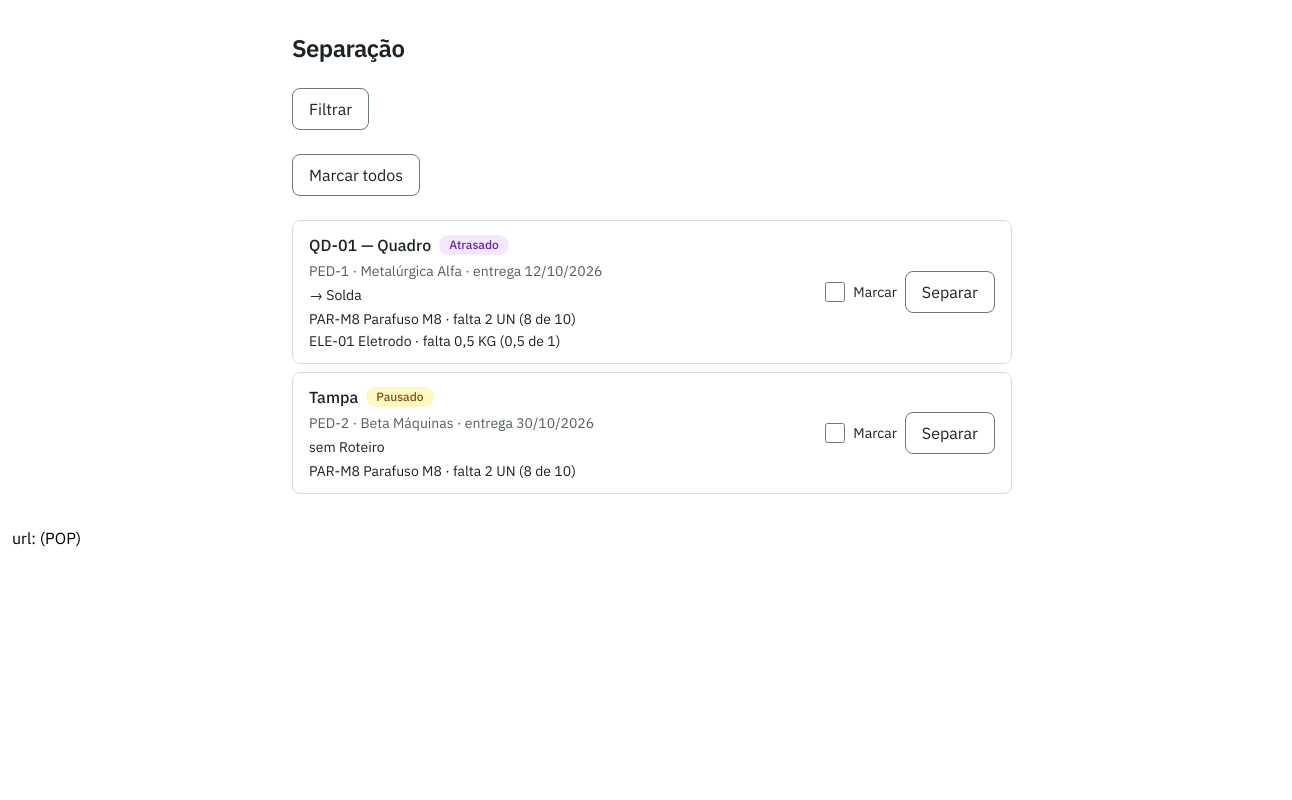
Test: SeparacaoPage › separar em lote › cartão que sai da lista na recarga sai da seleção, com aviso, sem reescrever o digitado nos outros
The width and height of the screenshot is (1292, 800).
Click the checkbox named "Marcar QD-01 — Quadro (PED-1)" at (835, 292), box x1=825 y1=282 x2=845 y2=302
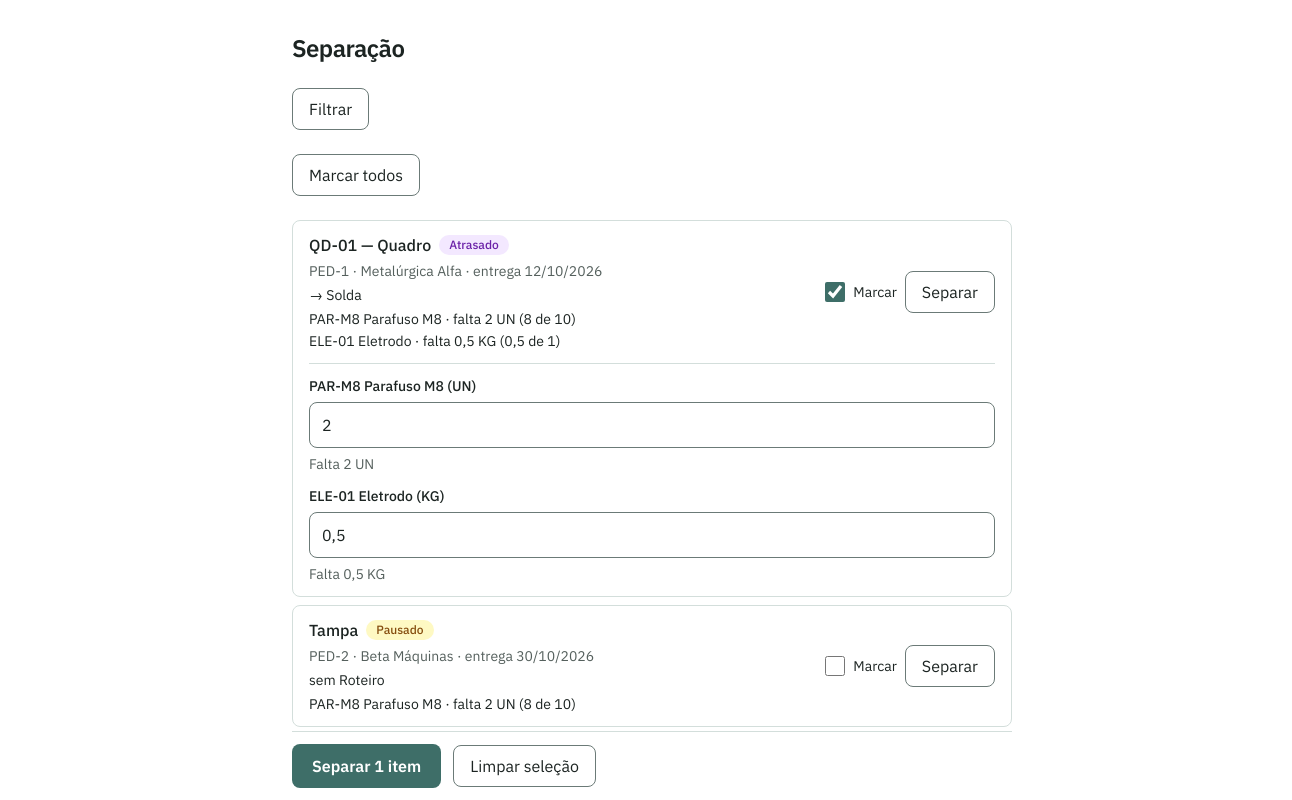
Click the checkbox named "Marcar Tampa (PED-2)" at (835, 666), box x1=825 y1=656 x2=845 y2=676
(page scrolled)
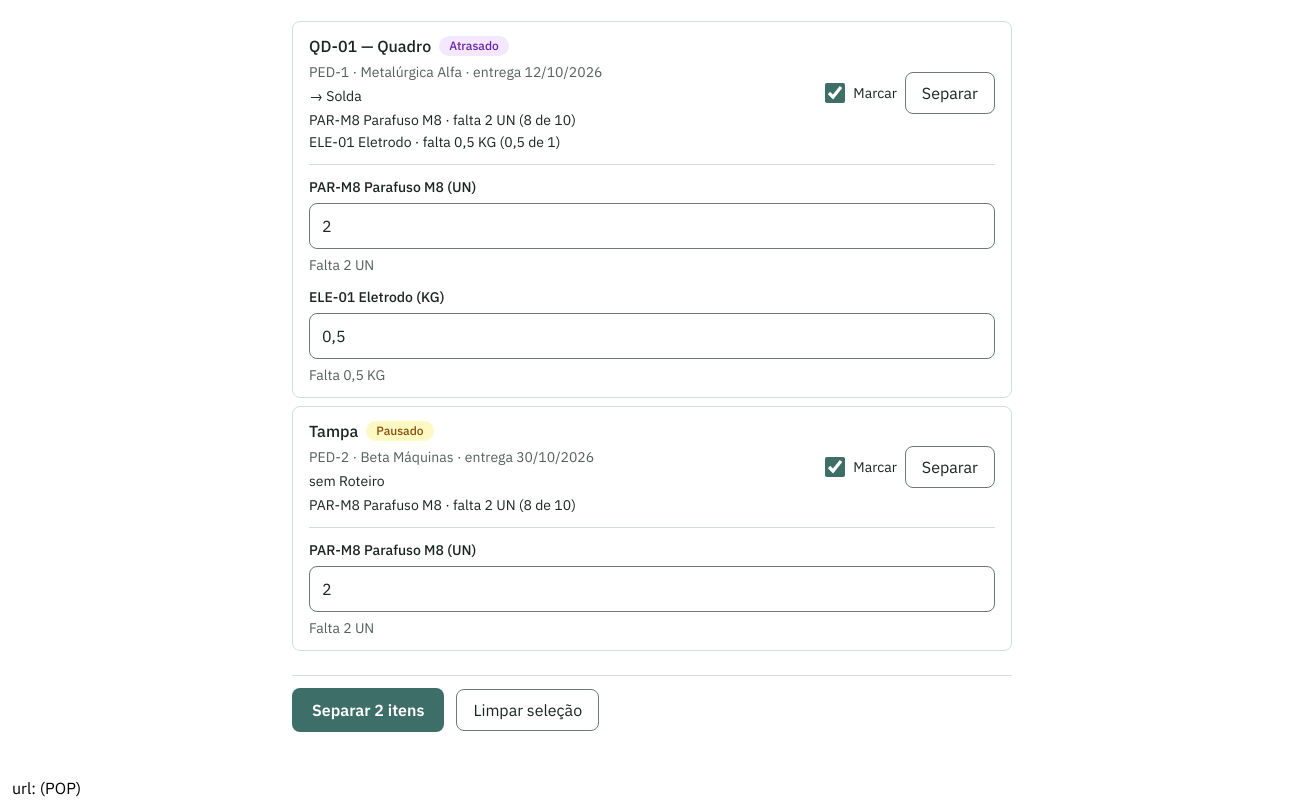
Replace the text in the field labelled "PAR-M8 Parafuso M8 (UN)" below "Tampa" with "1" at (652, 589), box x1=309 y1=566 x2=995 y2=612
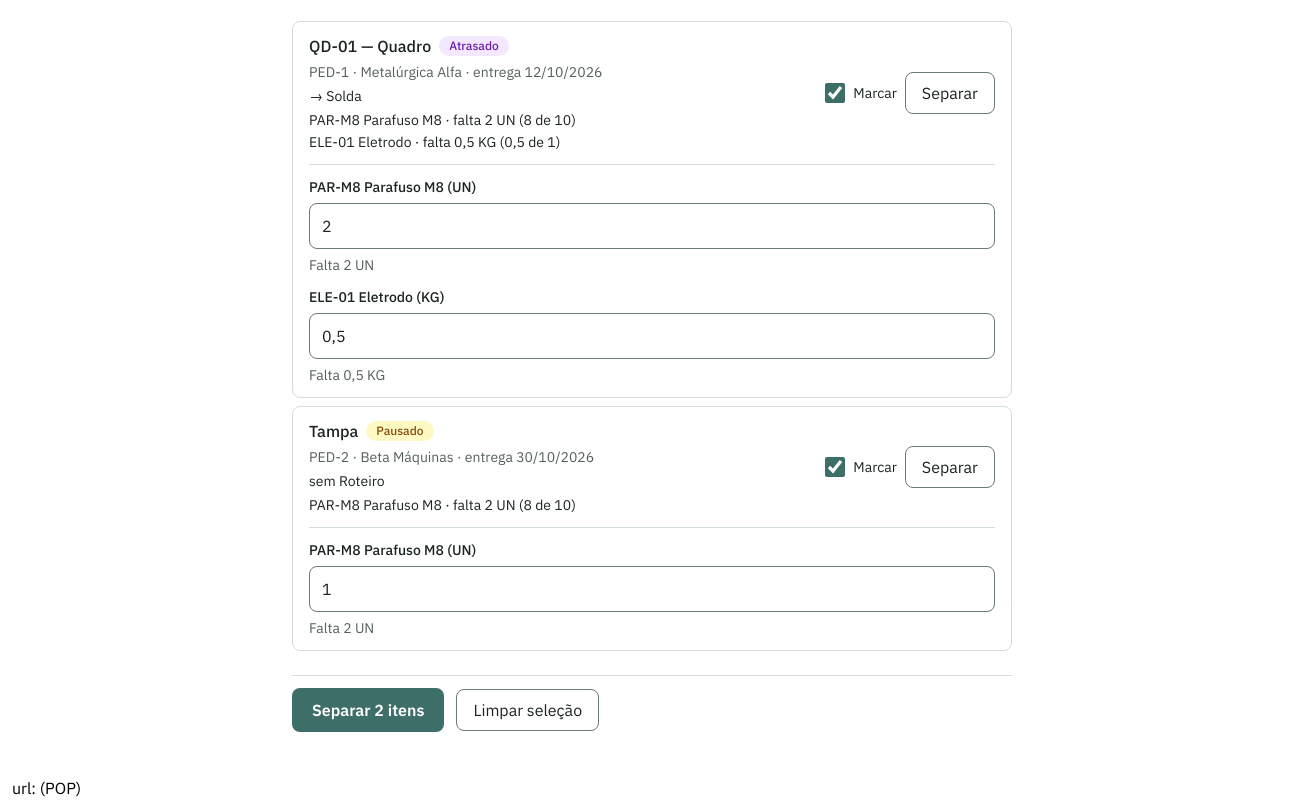
Click the button "Separar 2 itens" at (368, 710), box x1=292 y1=688 x2=444 y2=732
(page scrolled)
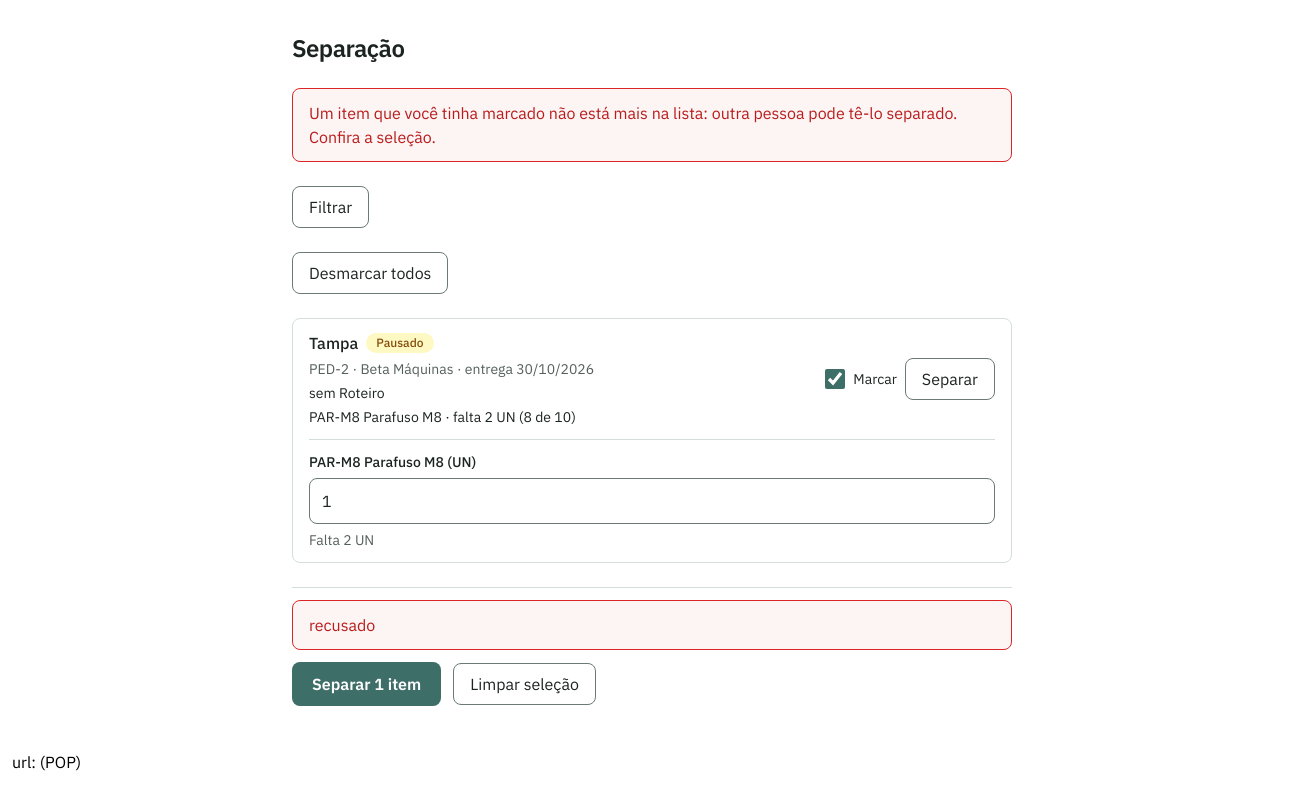
Expected: the text "QD-01 — Quadro" is gone
Expected: the text "Um item que você tinha marcado não está mais na lista" is shown, x1=309 y1=103 x2=957 y2=147
Expected: the button "Separar 1 item" is shown, x1=292 y1=662 x2=441 y2=706
